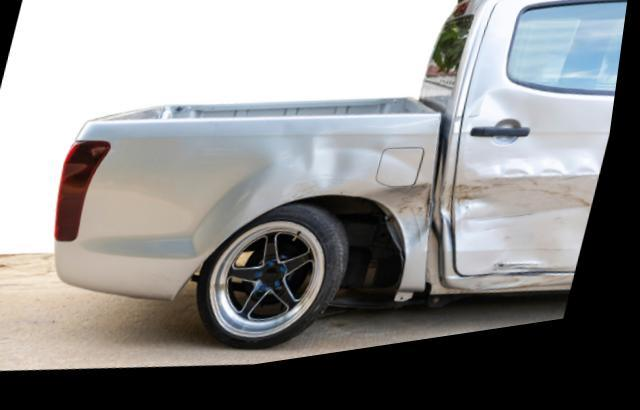dent: (458, 103, 620, 295), (252, 135, 438, 270)
